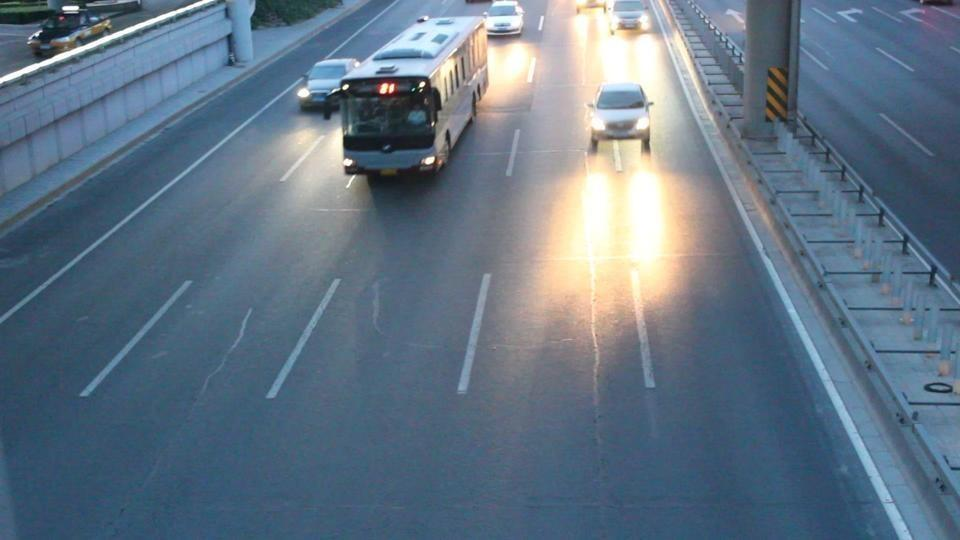car: (586, 79, 654, 150), (27, 12, 113, 60), (296, 57, 359, 117), (484, 1, 526, 38), (608, 0, 650, 33)
